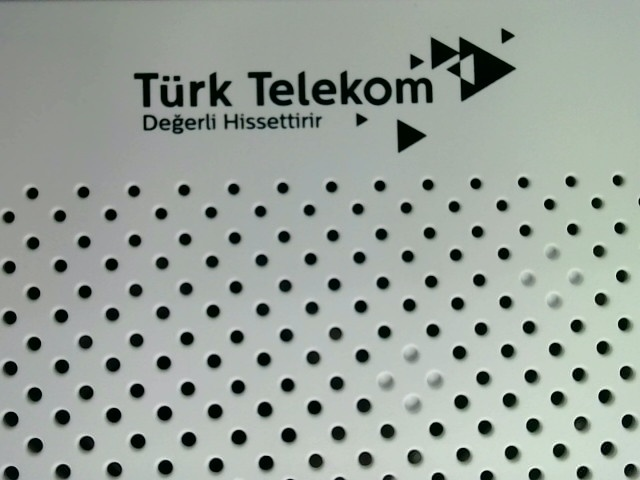AQ_TURKTelekom: (130, 25, 525, 152)
